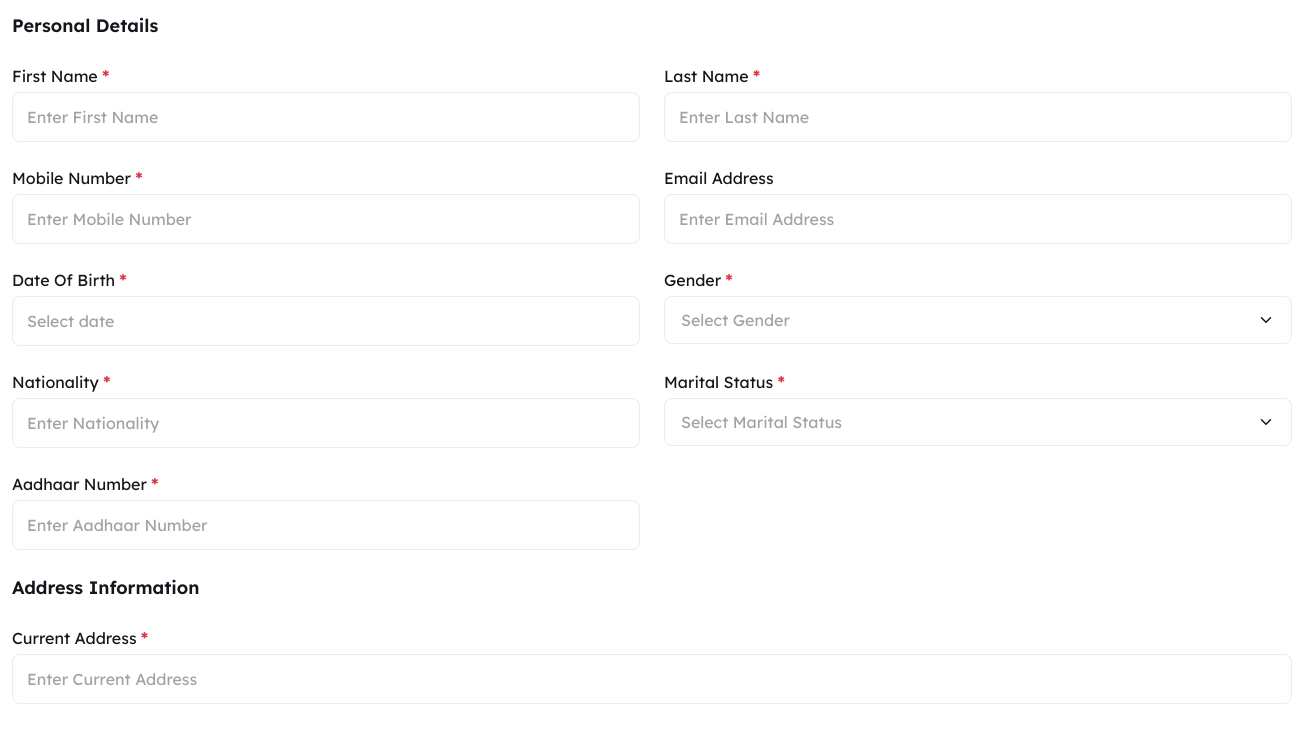
Test: PersonalInformationForm › offers the marital statuses the backend serves
The width and height of the screenshot is (1304, 731).
Click the button "Select Marital Status". click: (761, 422)
box: [664, 398, 1292, 446]
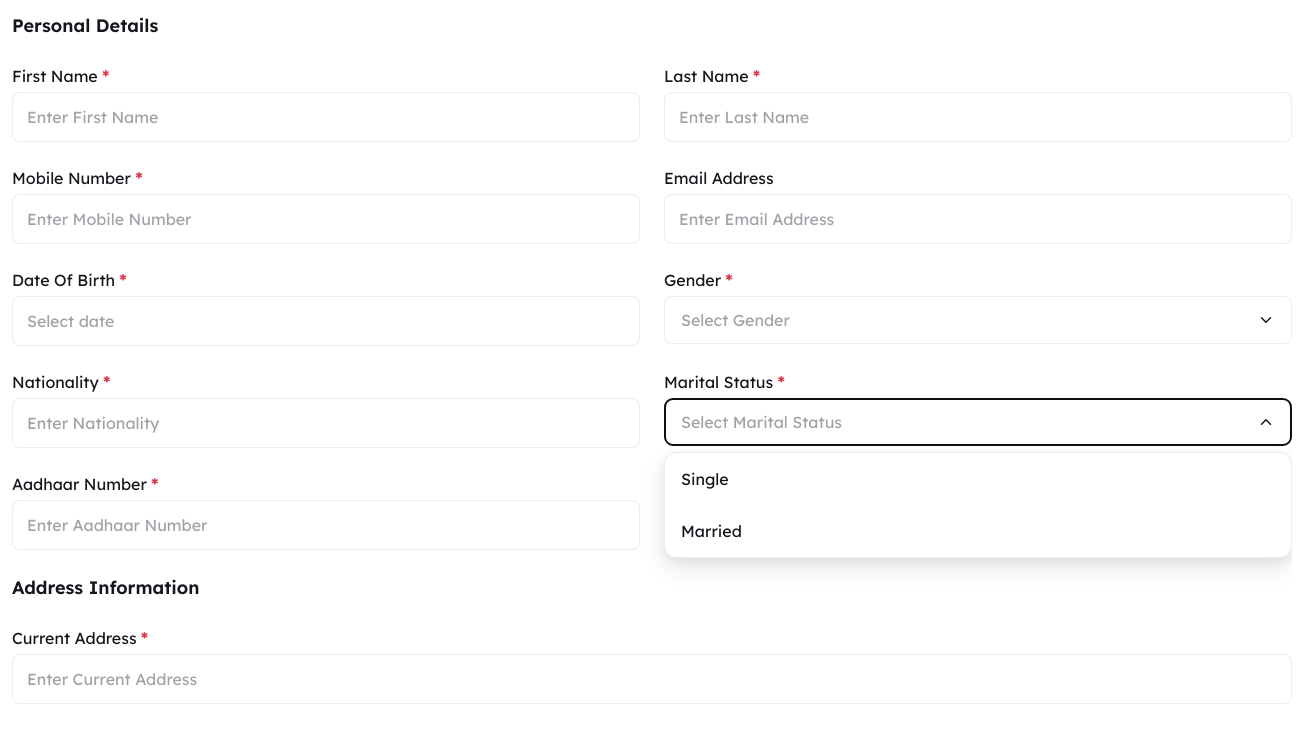
Click the button "Married". click: (711, 531)
box: [665, 505, 1291, 557]
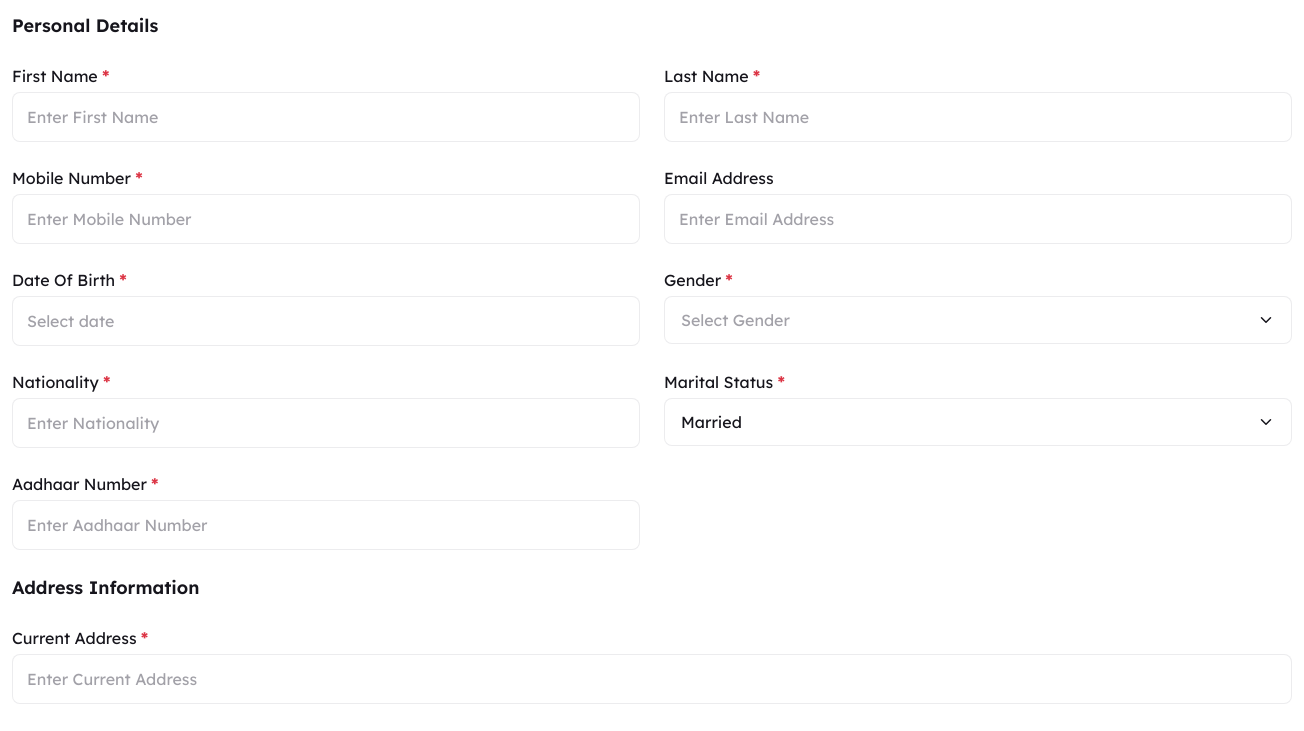
Check: the button "Married" is shown, box [664, 398, 1292, 446]
